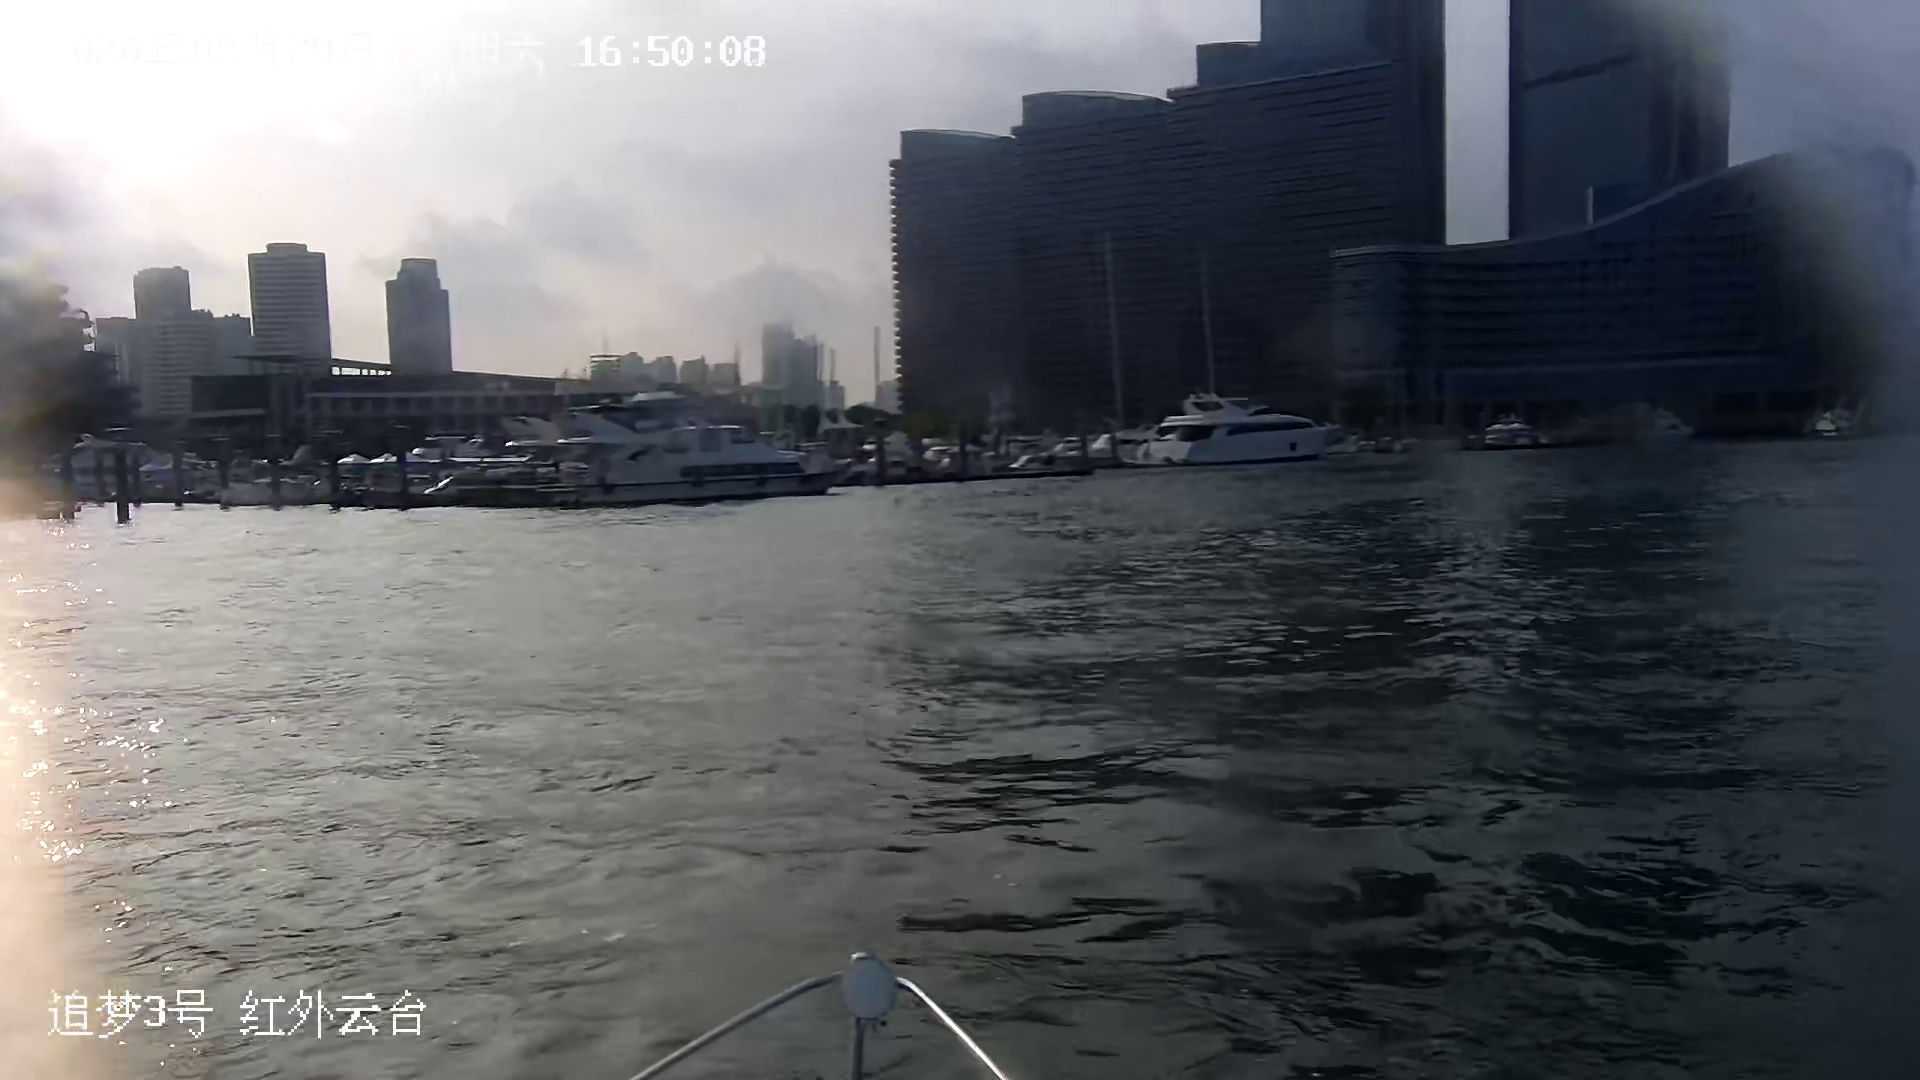barrier: (496, 413, 861, 513), (1131, 400, 1335, 469)
coast: (29, 1, 1920, 509)
